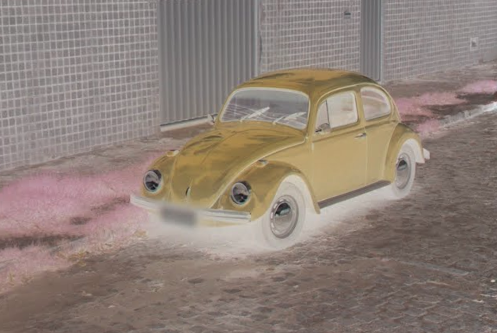car: (127, 67, 432, 249)
